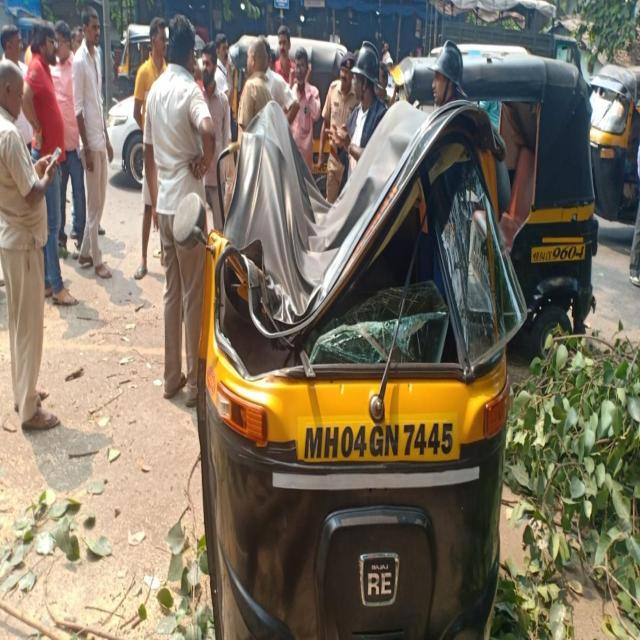accident: (171, 98, 526, 637)
autorickshaw: (462, 54, 598, 350), (590, 65, 640, 222), (400, 58, 432, 104)
